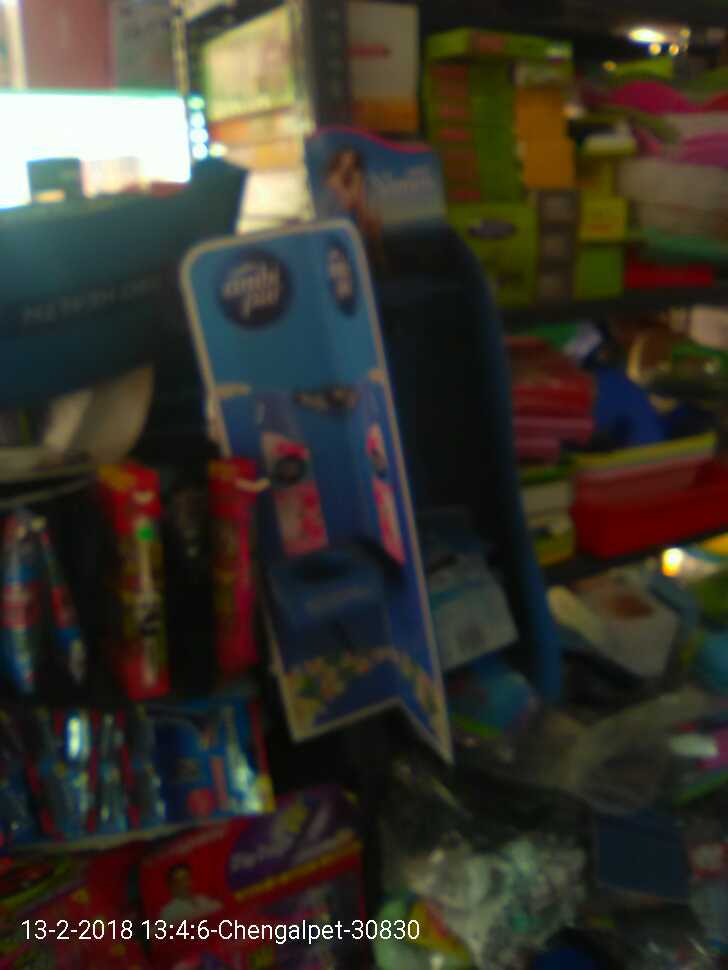reject: (219, 238, 297, 291)
